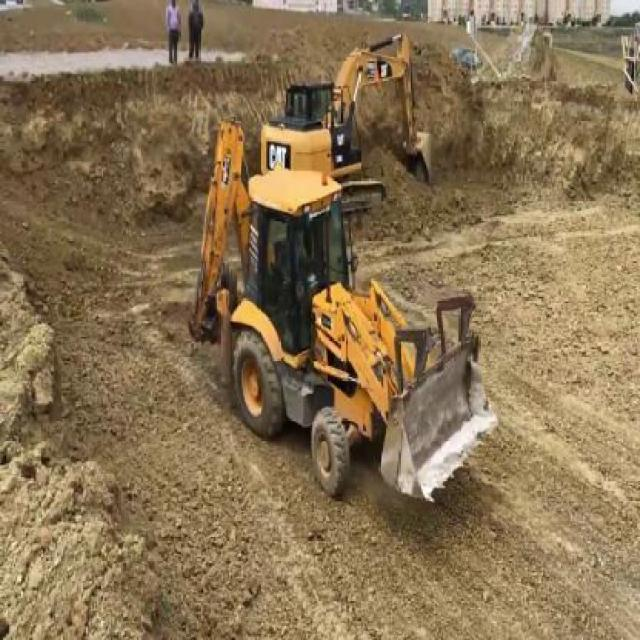Excavator: (258, 26, 434, 180)
